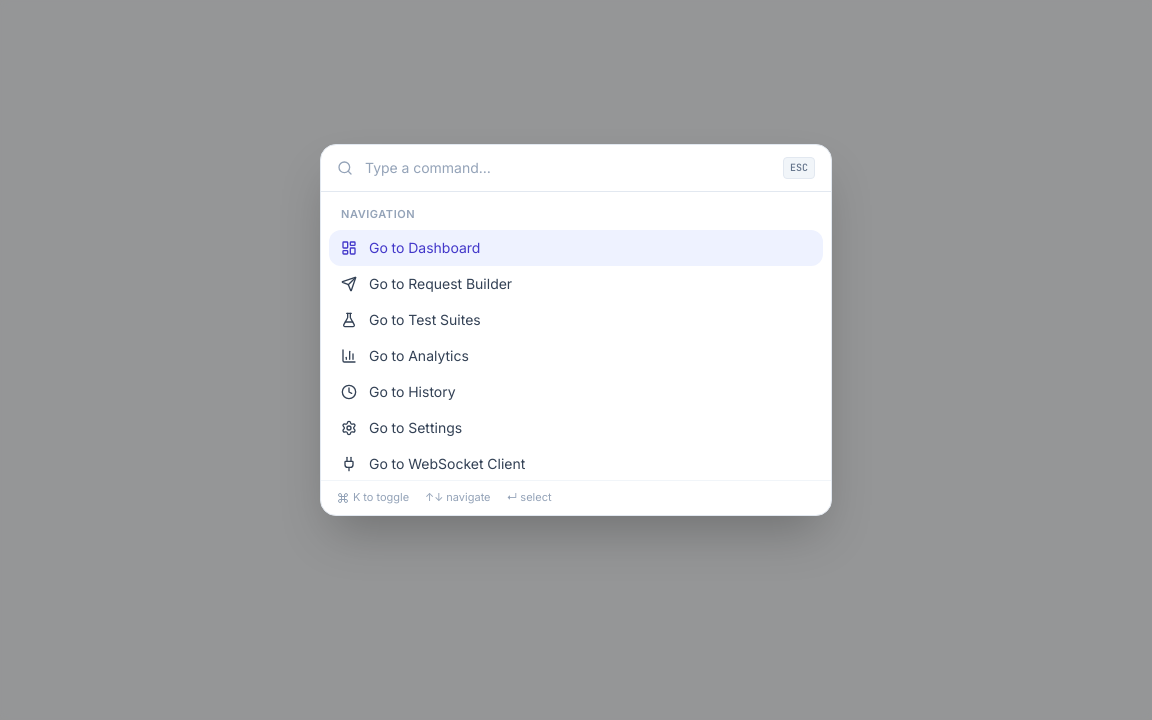
Test: CommandPalette › shows no results for impossible query
This screenshot has width=1152, height=720.
In the field with placeholder "Type a command…": (568, 168) 365,158 -> 771,178, type "zzzzzzzzz"
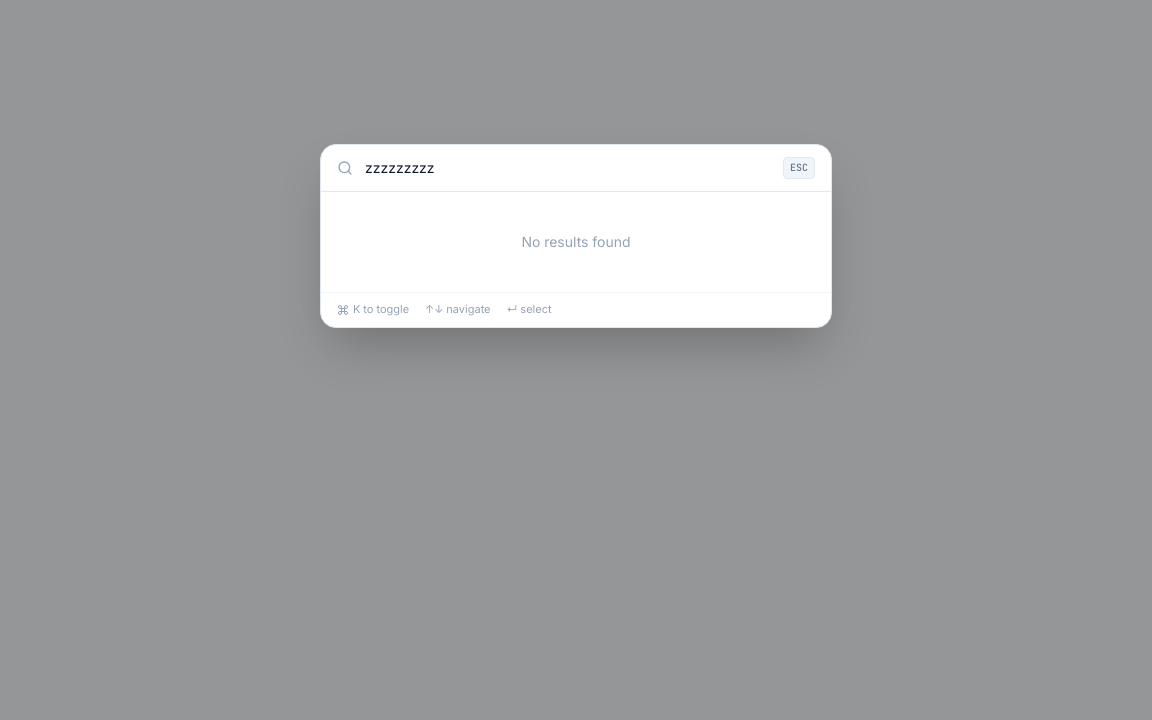
Expected: the text "No results found" is shown, 522,233 -> 630,250
